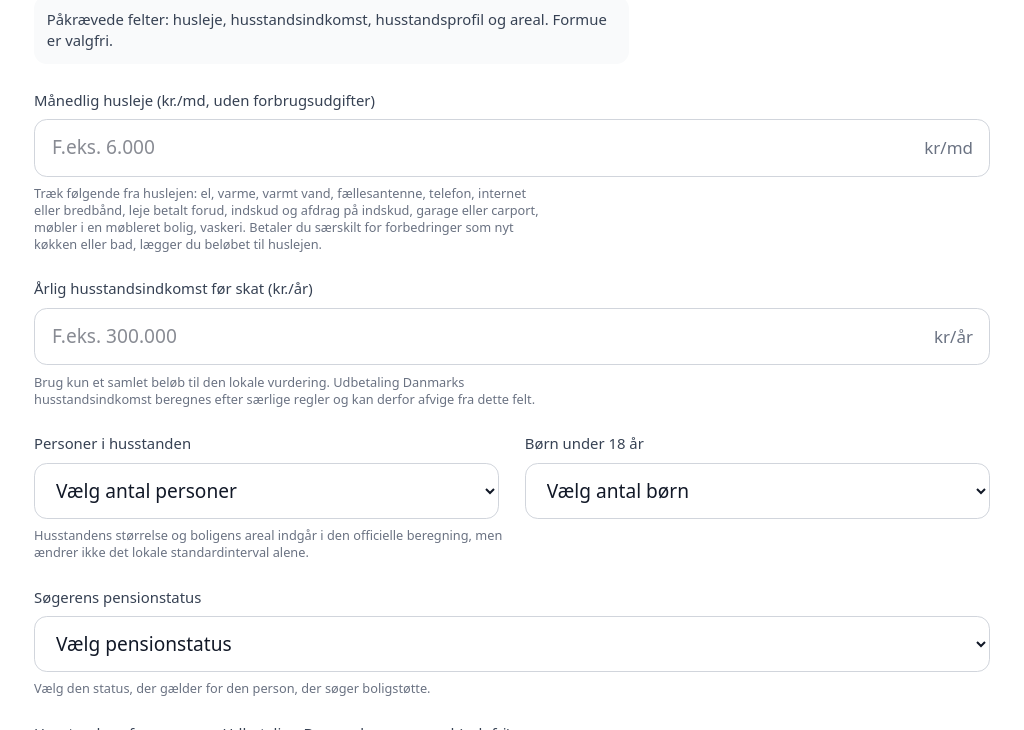
Scenario: BoligstoetteBeregner › viser små huslejer med hele øre
The width and height of the screenshot is (1024, 730).
Type "0.29" into the number field labelled "Månedlig husleje (kr./md, uden forbrugsudgifter)". click: (512, 148)
box: [34,119,990,177]
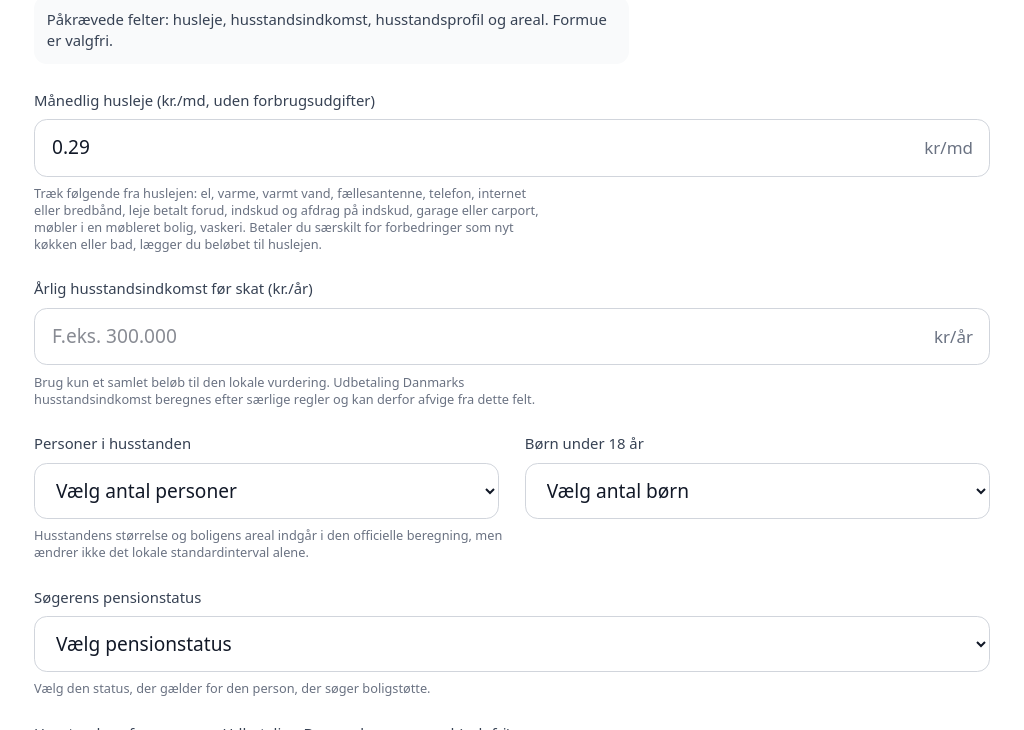
Type "216000" into the number field labelled "Årlig husstandsindkomst før skat (kr./år)". click: (512, 337)
box: [34,308,990,366]
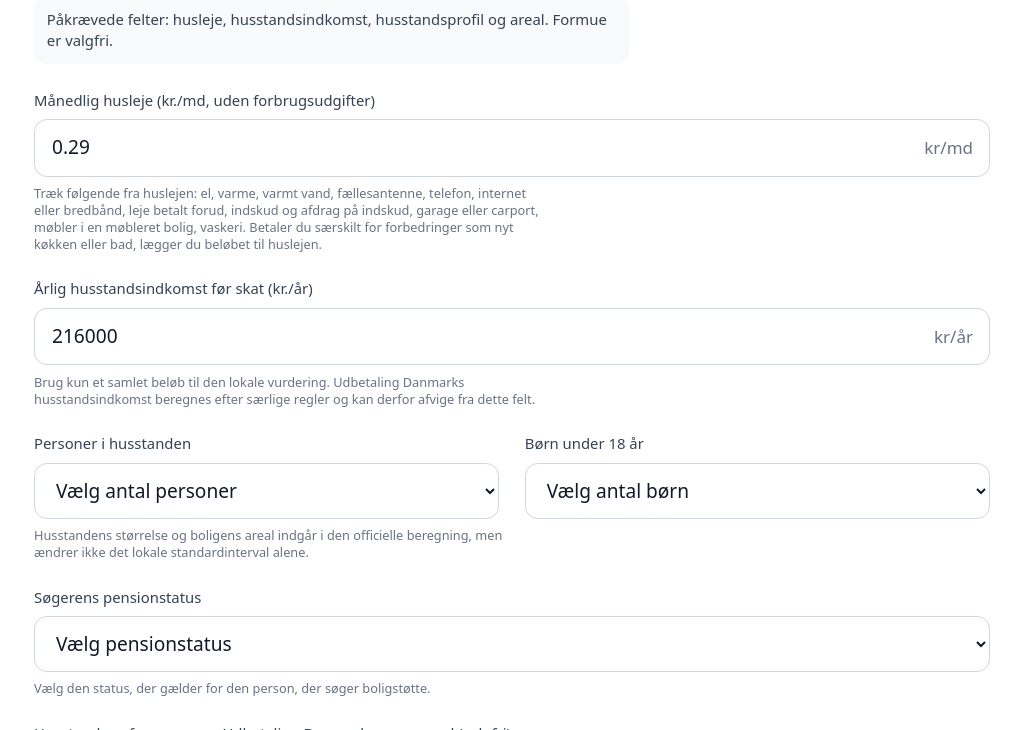
Select "1 person" in the dropdown labelled "Personer i husstanden". click: (267, 491)
box: [34,463,499,519]
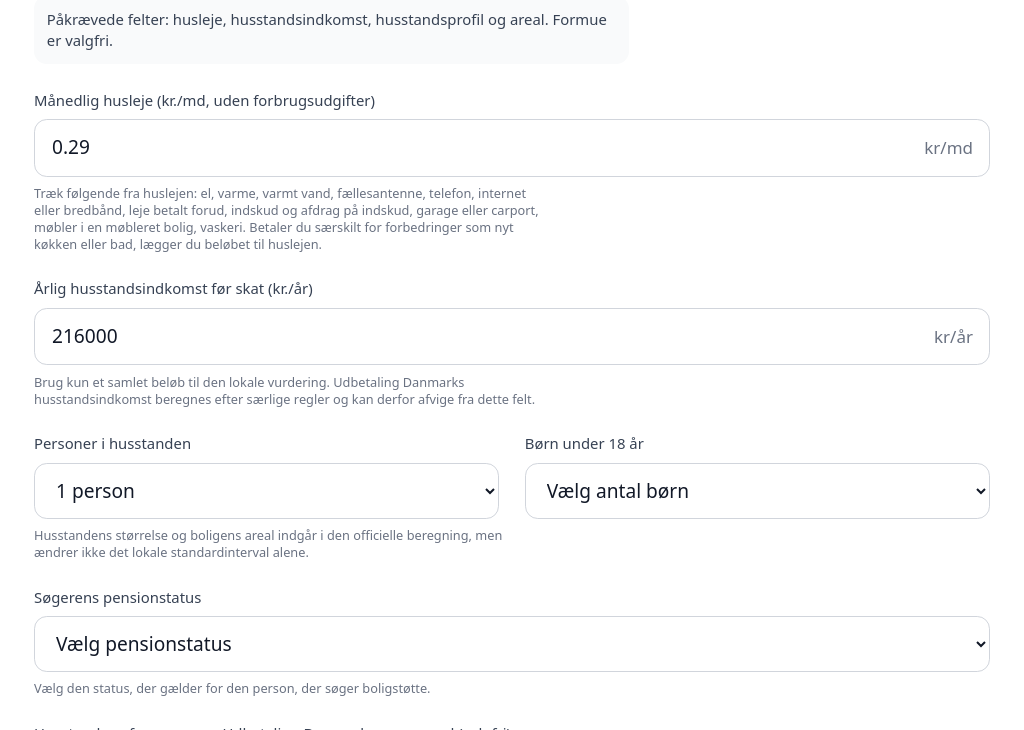
Select "0 børn" in the dropdown labelled "Børn under 18 år". click: (757, 491)
box: [525,463,990,519]
(page scrolled)
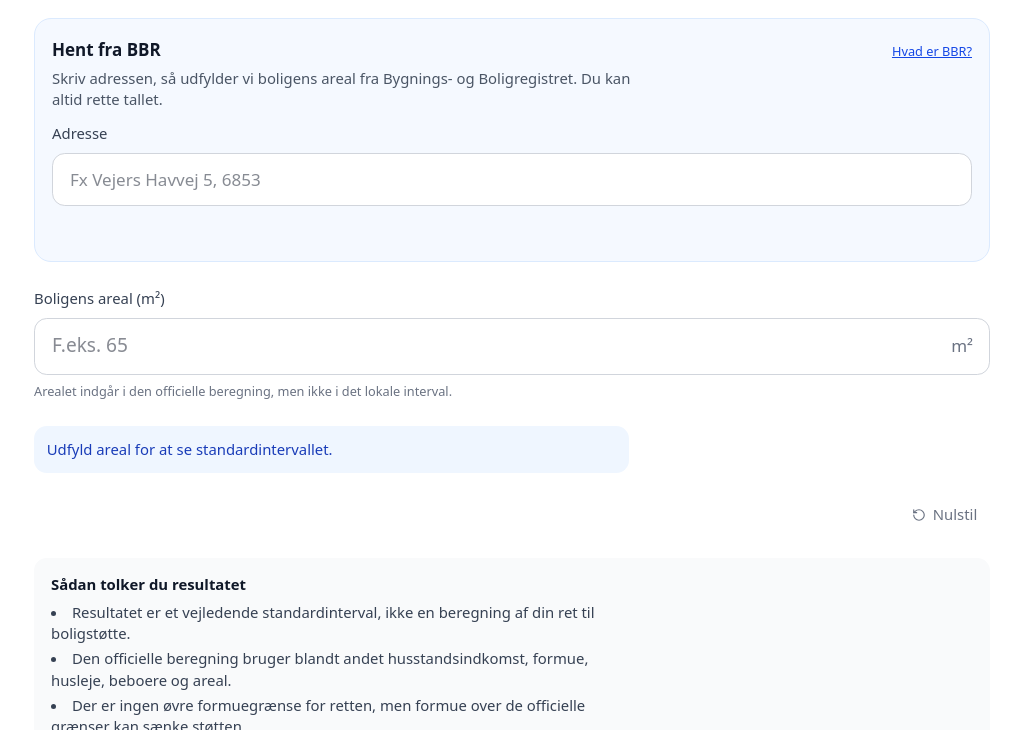
Type "65" into the number field labelled "Boligens areal (m²)". click: (512, 346)
box: [34,318,990,375]
(page scrolled)
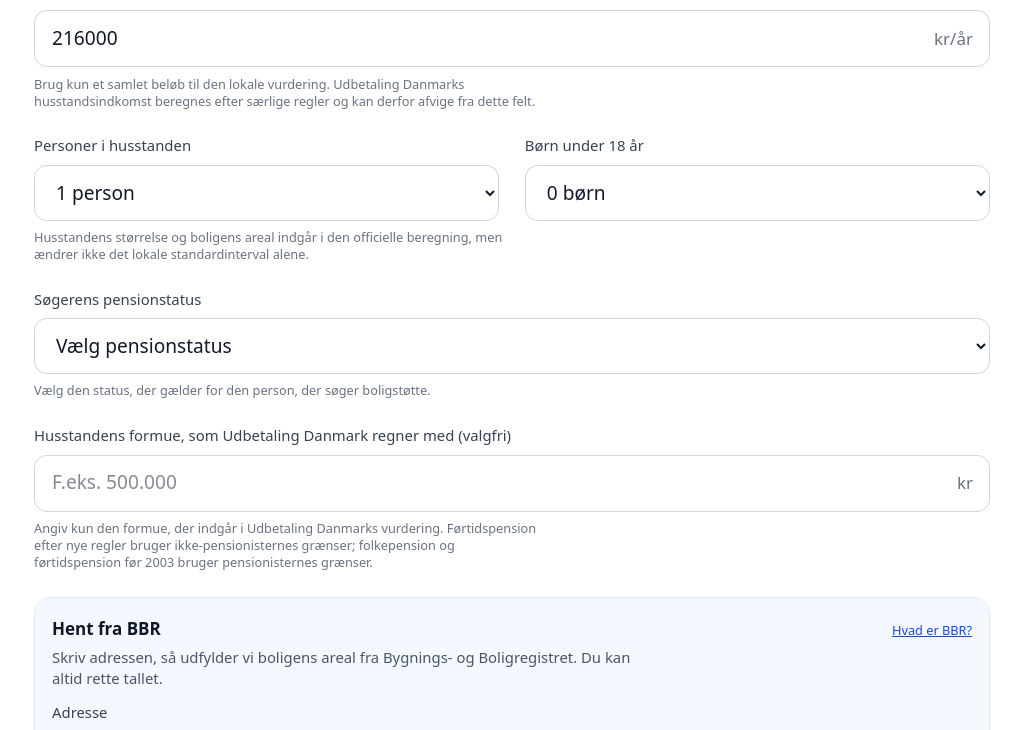
Select "Ikke pensionist" in the dropdown labelled "Søgerens pensionstatus". click: (512, 346)
box: [34,318,990,374]
(page scrolled)
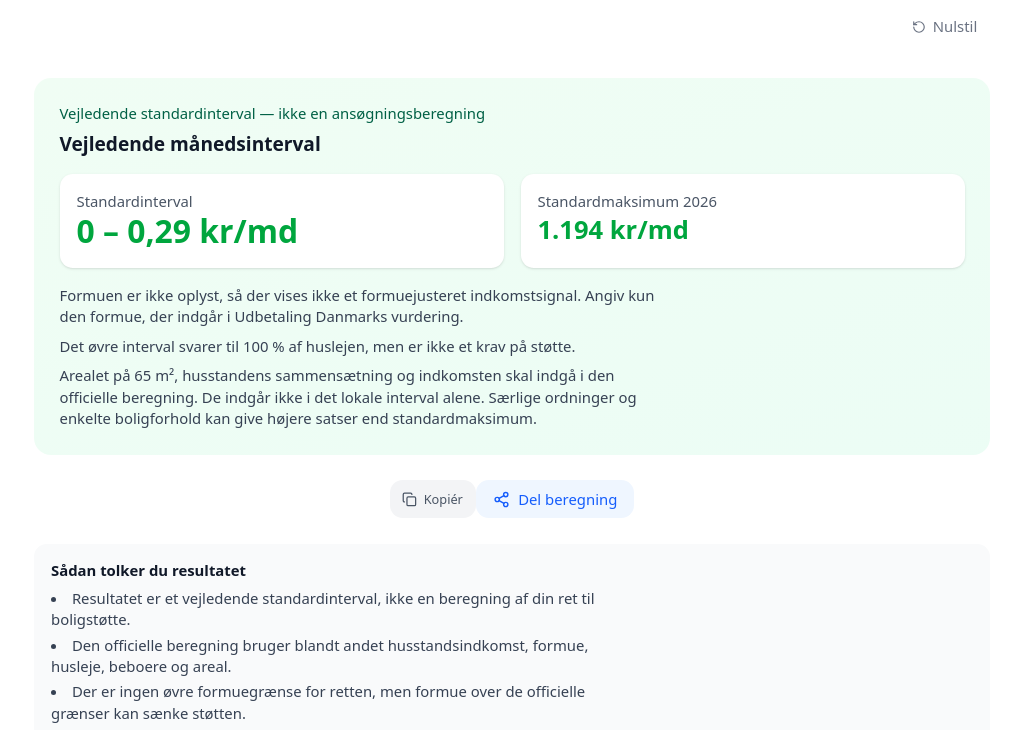
Expected: the text "0 – 0,29 kr/md" is shown, [76,209,298,252]
Expected: the text "100 % af huslejen" is shown, [60,336,654,357]
